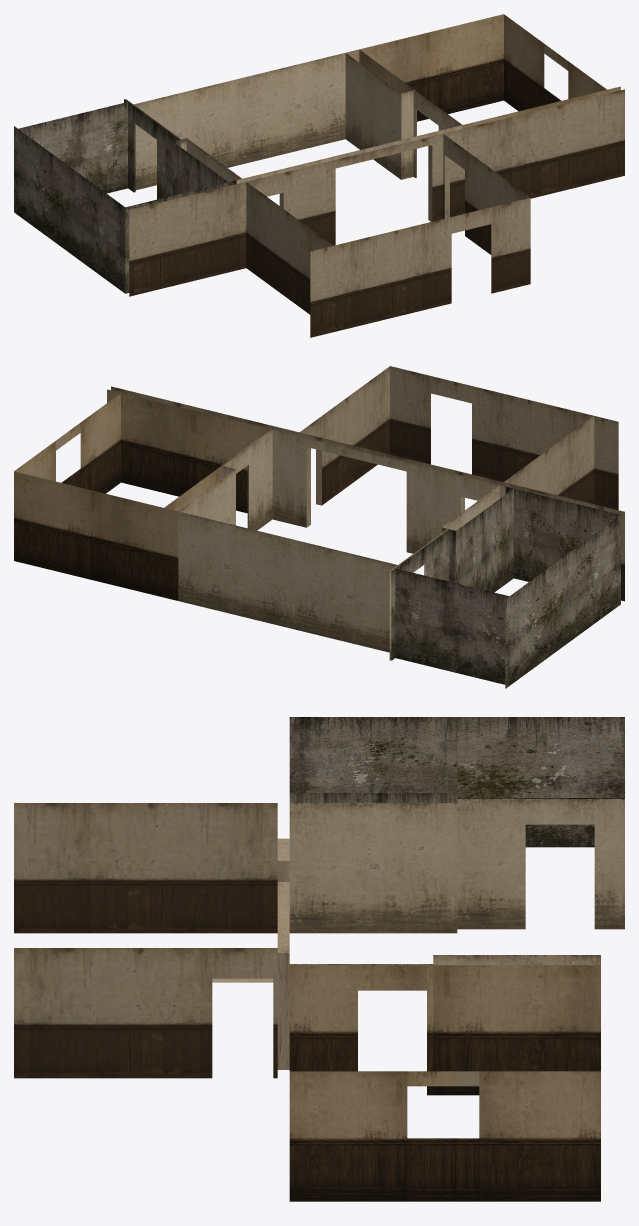
File: OF_Wall.fbx
The picture shows the model from 3 angles, top to bottom: view 1: azimuth 30°, elevation 25°; view 2: azimuth 150°, elevation 25°; view 3: azimuth 270°, elevation 25°; orthographic projection. The views are drawn at different scales.
Visible parts, largest first — view 1: E_OF_Wall; view 2: E_OF_Wall; view 3: E_OF_Wall.
Part boxes in pixels (x1,y1,x2,y2): E_OF_Wall: (14, 14, 624, 337); E_OF_Wall: (14, 366, 624, 688); E_OF_Wall: (14, 717, 624, 1201).
Size of the model in its own units: 1800 by 300 by 1275.
Materials: 4 (4 with a texture image).
